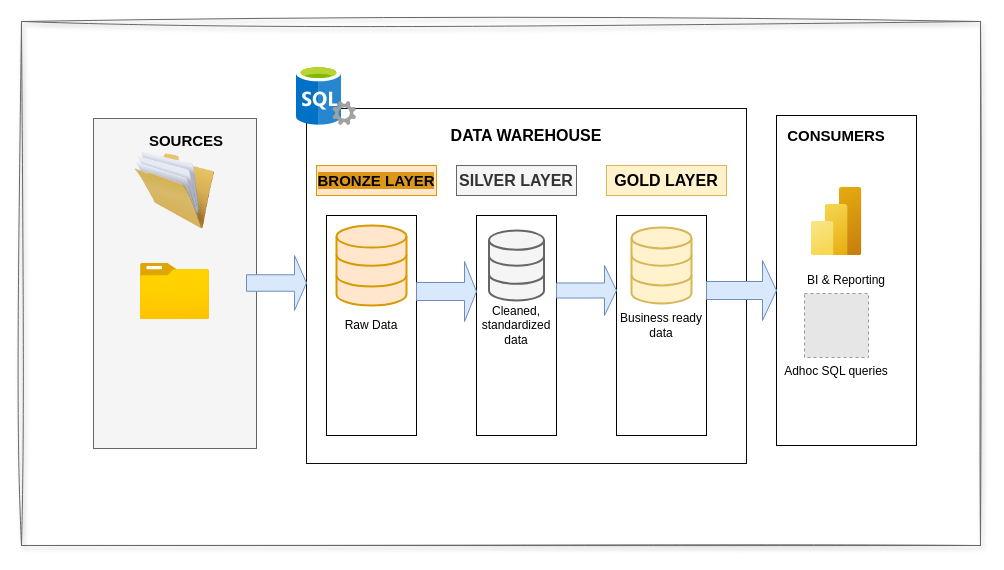
The diagram is 1004 pixels wide and 570 high, and some of its shapes have lost their labels. Grey dashed boxes stand in for pictures. Each missing label, with the centre of its shape:
"CRM" belongs at point (174, 291).
"ERP" belongs at point (174, 190).
